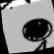correct: (18, 14, 54, 45)
